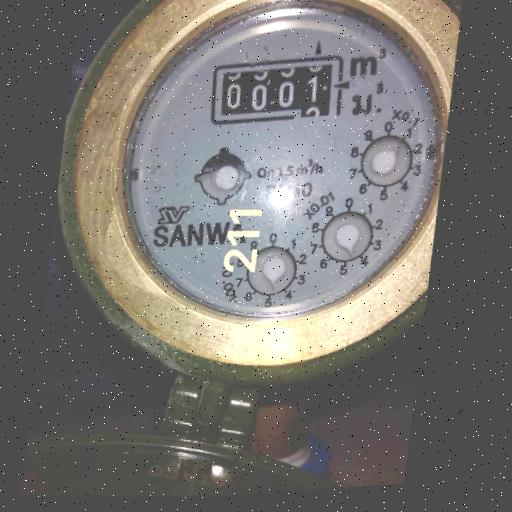0: (269, 64, 307, 113), (243, 66, 279, 115), (217, 69, 252, 118)
1: (296, 62, 336, 120)
border_water_meter_number: (204, 46, 349, 135)
